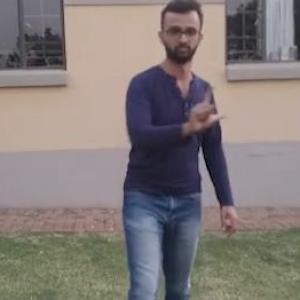land_hand: (178, 79, 230, 135)
